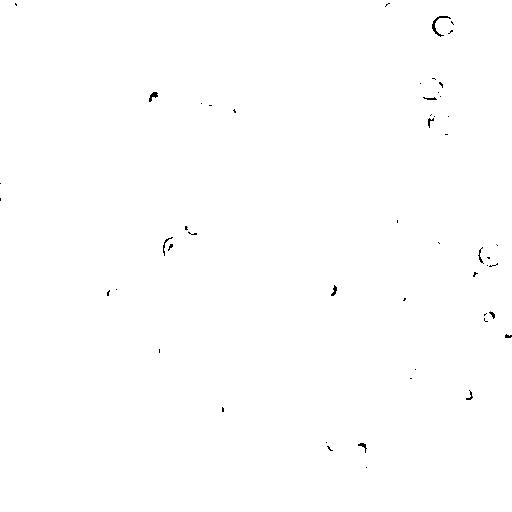micro-algae: (21, 8, 157, 146), (161, 325, 241, 410), (197, 450, 304, 511), (151, 1, 243, 51), (0, 209, 48, 301), (84, 245, 131, 294), (73, 277, 108, 311), (19, 449, 50, 481), (427, 105, 457, 137), (162, 236, 190, 265), (477, 241, 504, 269), (109, 420, 135, 449), (386, 282, 413, 308), (247, 407, 274, 433), (141, 241, 168, 267), (417, 76, 445, 101), (72, 454, 97, 481), (6, 411, 35, 434), (226, 93, 250, 119), (401, 356, 425, 379), (146, 87, 170, 109), (436, 229, 458, 253), (269, 18, 292, 40), (433, 13, 455, 36), (468, 271, 492, 292), (317, 278, 340, 299), (358, 461, 379, 483), (199, 93, 219, 115), (207, 396, 225, 419), (91, 257, 112, 275), (301, 502, 338, 512), (1, 180, 17, 202), (172, 283, 191, 301), (395, 208, 410, 229), (415, 204, 430, 225), (326, 434, 344, 451), (183, 220, 203, 235), (460, 385, 476, 401), (385, 0, 398, 19), (55, 97, 71, 112), (354, 441, 369, 457), (7, 0, 25, 13), (481, 309, 497, 323), (107, 283, 121, 299), (497, 324, 511, 339), (120, 499, 137, 511), (157, 343, 172, 356), (186, 0, 210, 8), (506, 350, 511, 377)
